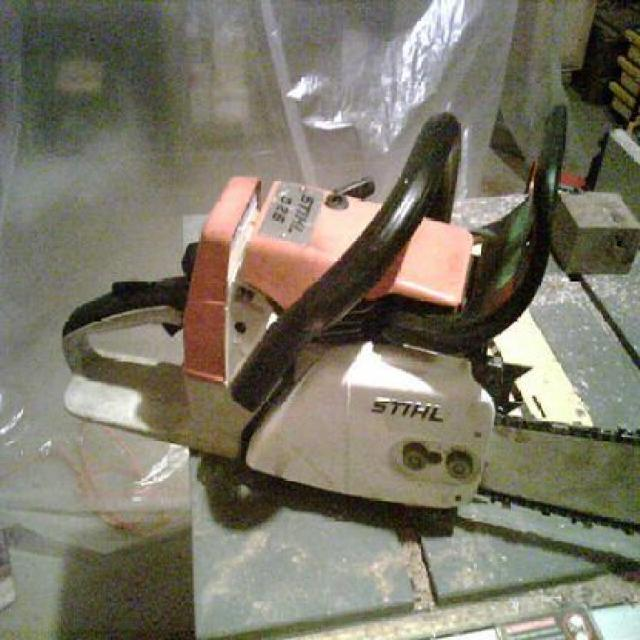Chainsaw: (60, 91, 640, 538)
